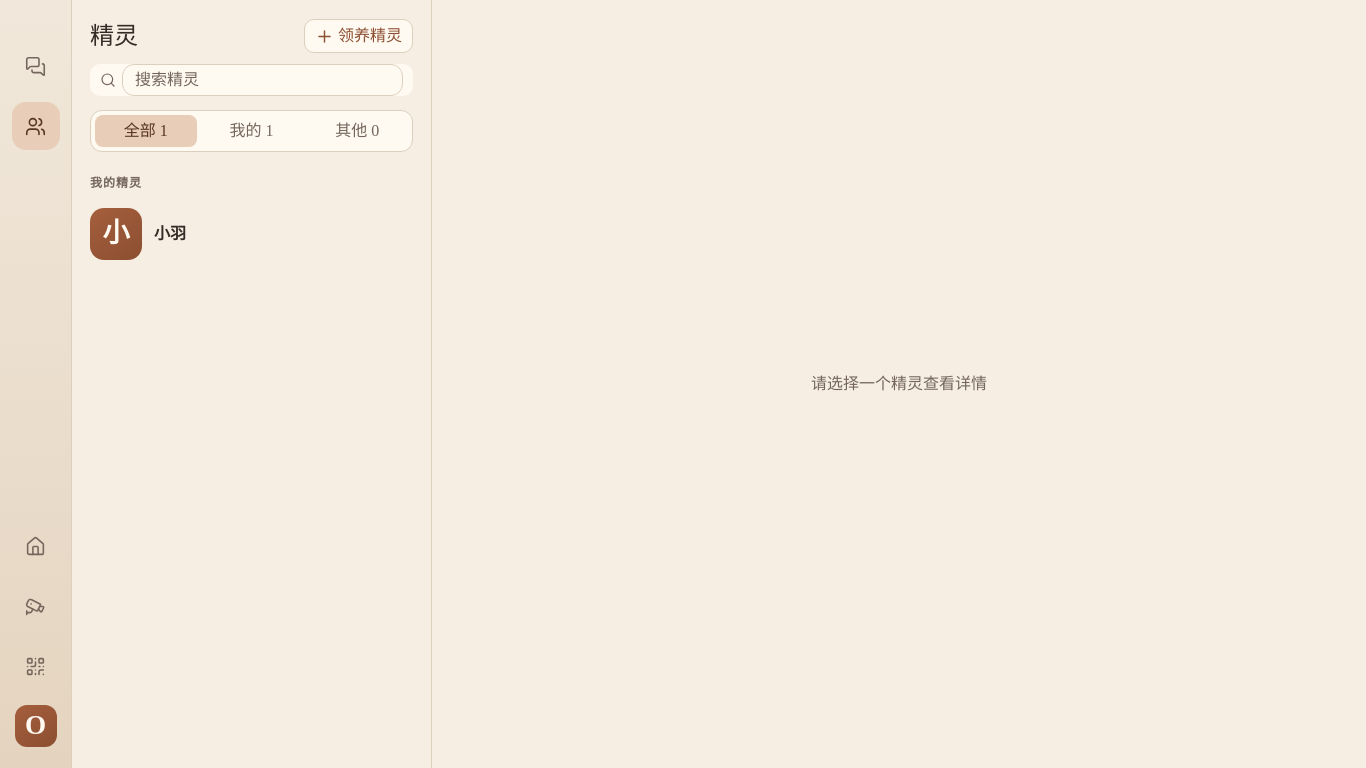
Test: ChatPage list pane headings › opens history when the chat rail is selected from the Elfie list without a selection
The image size is (1366, 768).
What coordinates should you click on to do the following:
click the button named "聊天记录"
I would click on:
 (36, 66)
Its box is x1=12 y1=42 x2=60 y2=90.
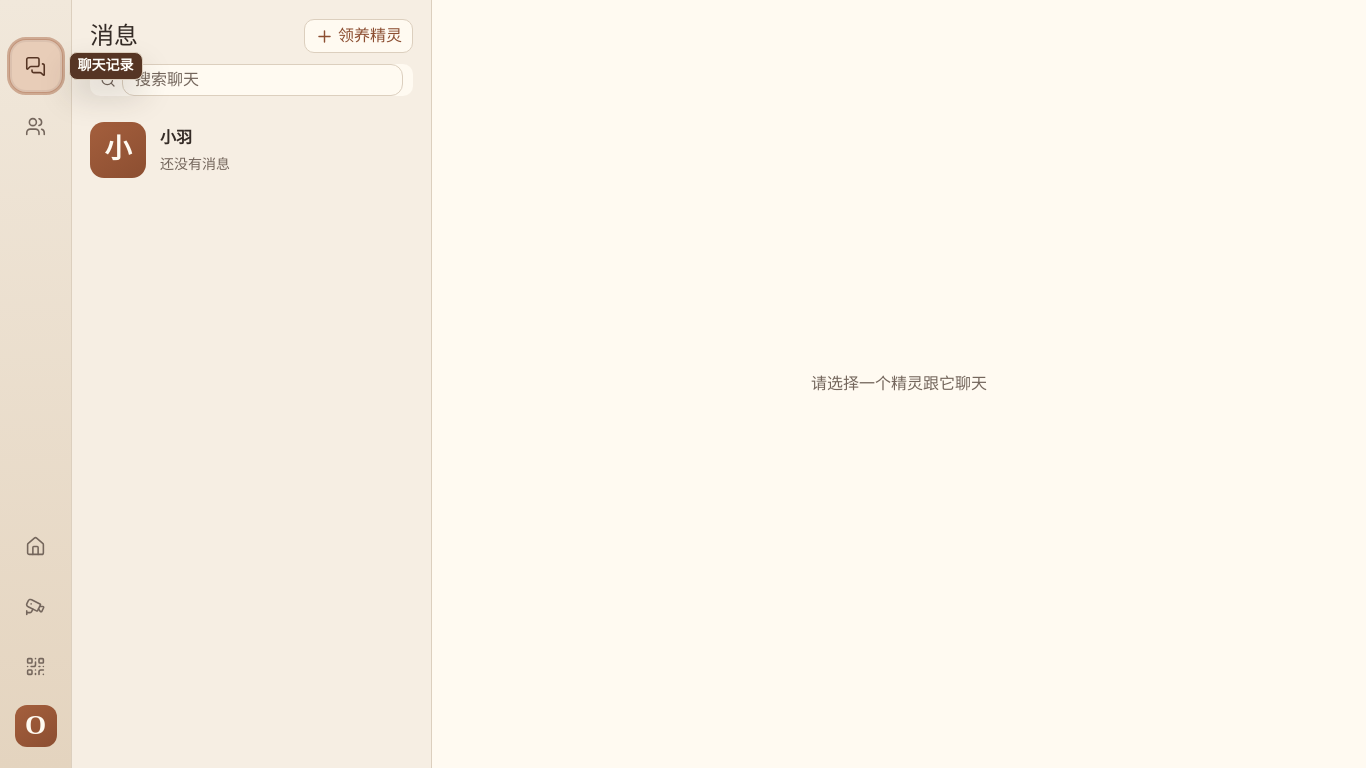
expect the heading "消息" is shown: met, box x1=90 y1=18 x2=138 y2=54
